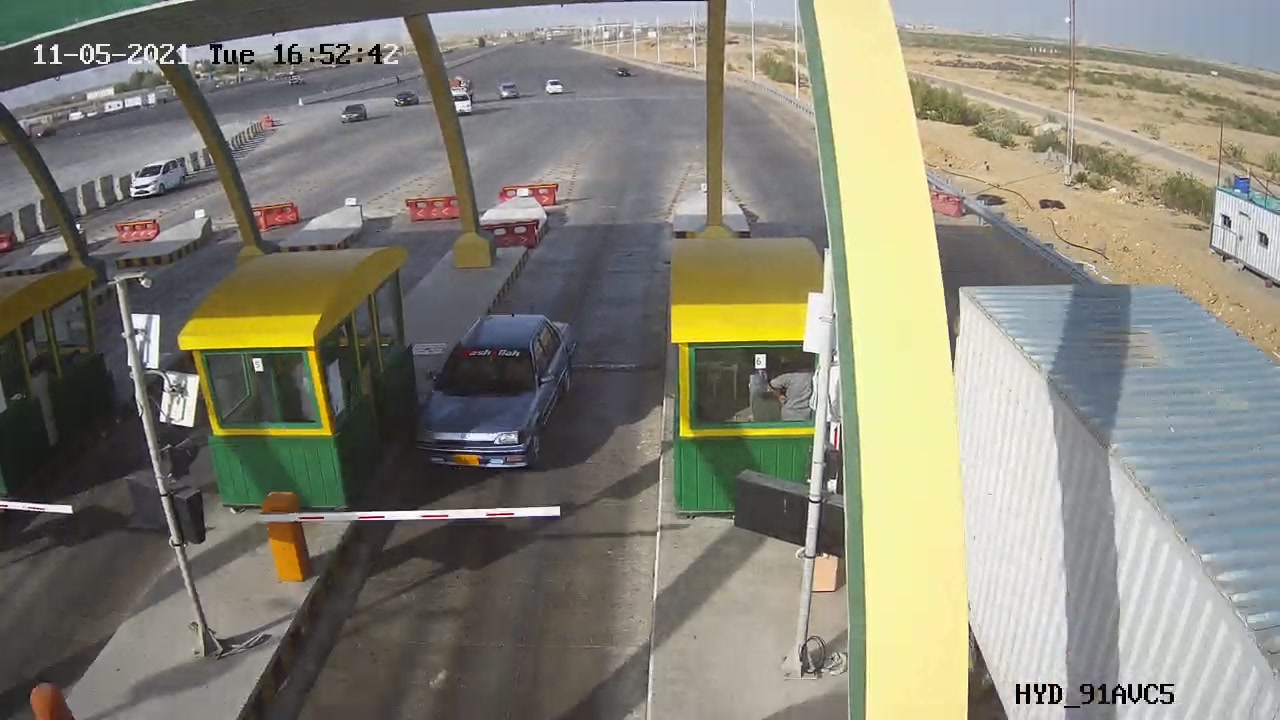F1: (394, 298, 580, 485)
